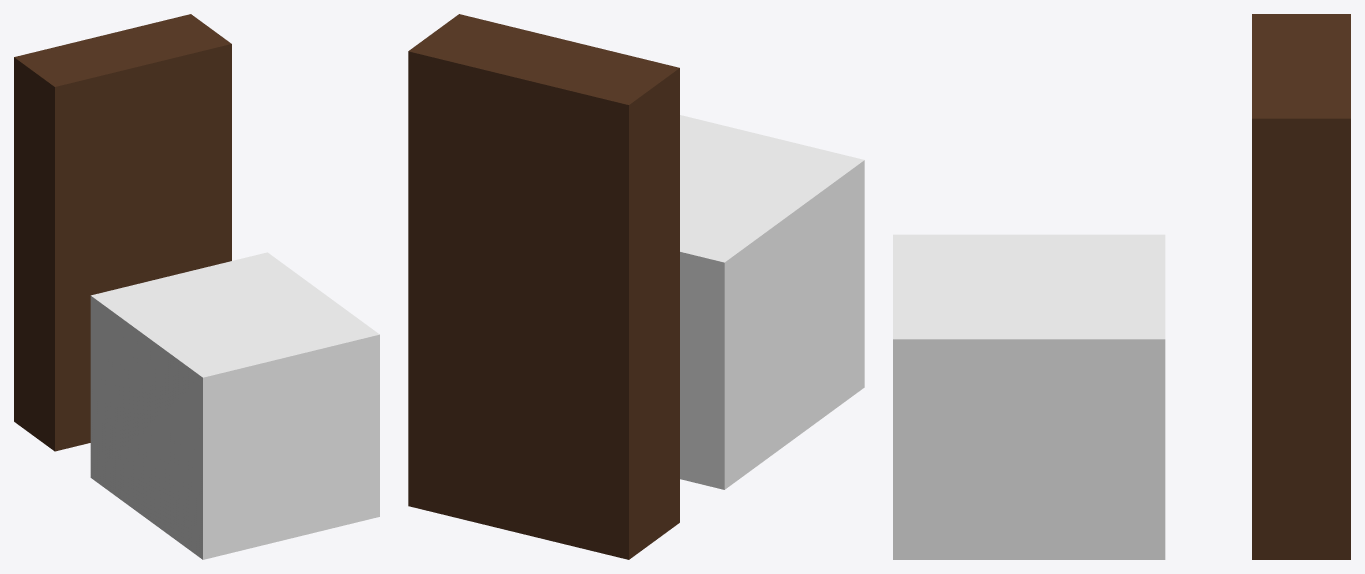
The model's file is retrete.glb.
3 views of the same model, side by side, from view 1: azimuth 30°, elevation 25°; view 2: azimuth 150°, elevation 25°; view 3: azimuth 270°, elevation 25° (orthographic). The views are drawn at different scales.
Visible parts, largest first — view 1: retrete; view 2: retrete; view 3: retrete.
Boxes of the visible parts, box(x1,y1,x2,y2) form: retrete: box(14, 14, 379, 559); retrete: box(408, 14, 864, 559); retrete: box(893, 14, 1350, 559).
Bounding box in the file's own units: 0.4572 × 0.9 × 0.8458.
